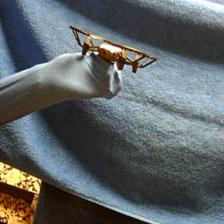drone: (68, 25, 160, 74)
